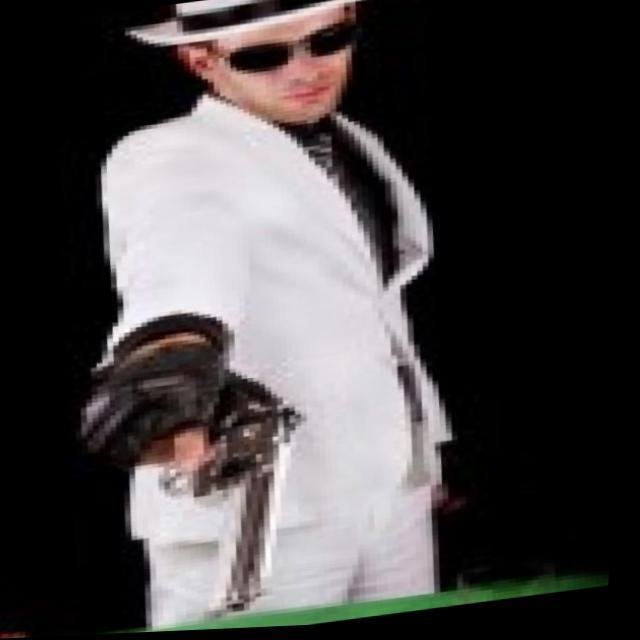weapon: (58, 308, 332, 637)
